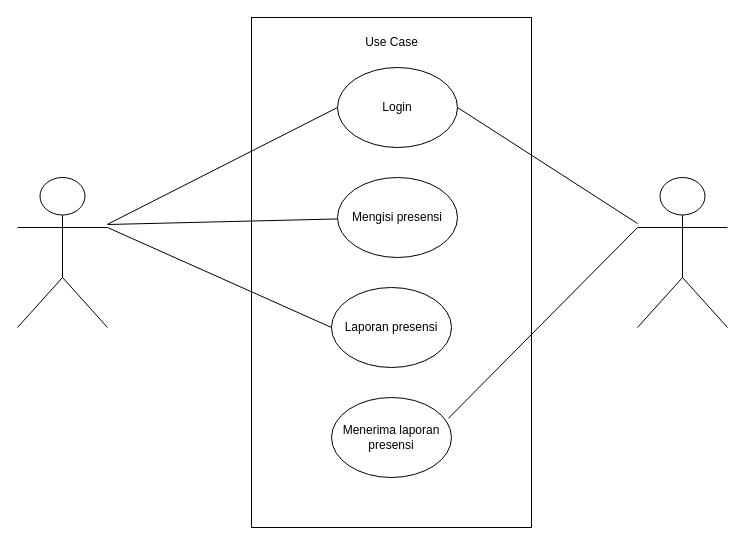
This 745x545 diagram has some shape labels left out. The shapes that lost their labels are listed below. From the top down, each one's centre as x and y in pixels, then its label:
At (x=62, y=252): "Sekretaris".
At (x=682, y=252): "Guru piket".
